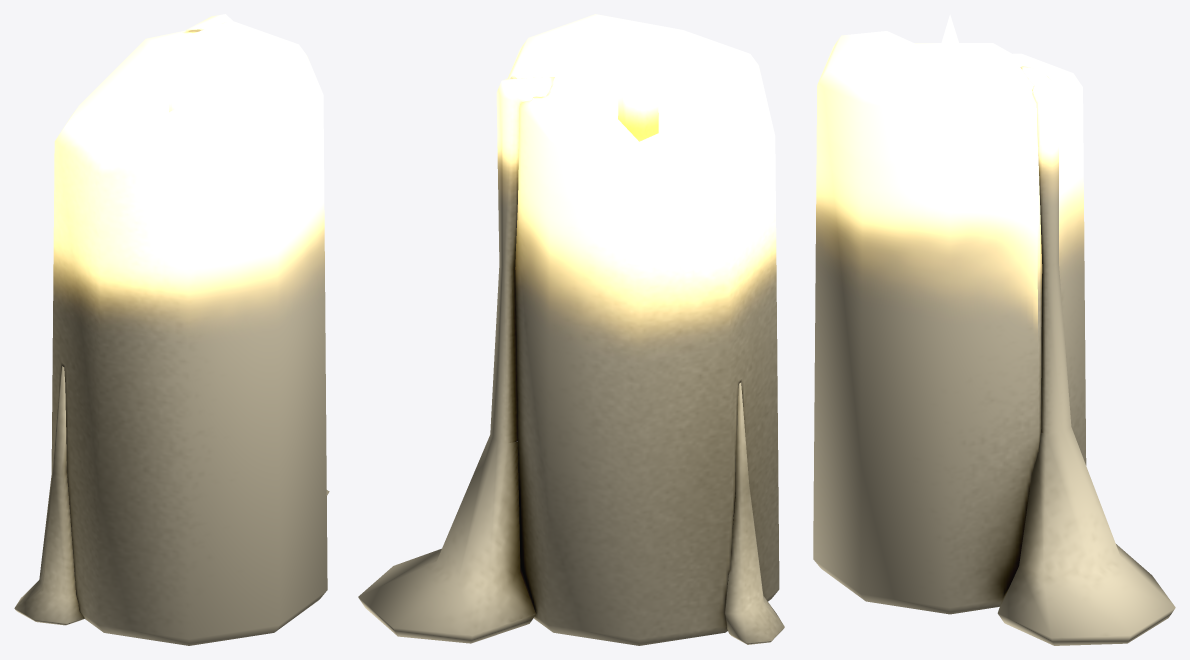
File: medium pillar candle.FBX
The picture shows the model from 3 angles, left to right: view 1: azimuth 30°, elevation 25°; view 2: azimuth 150°, elevation 25°; view 3: azimuth 270°, elevation 25°; orthographic projection. The views are drawn at different scales.
Parts seen in each view (by area): view 1: med thick candle; view 2: med thick candle; view 3: med thick candle.
Boxes of the visible parts, x1,y1,x2,y2 form: med thick candle: (14,14,329,645); med thick candle: (358,14,784,645); med thick candle: (813,14,1175,645).
Bounding box in the file's own units: 0.0956 × 0.1462 × 0.0881.
Materials: 1 (1 with a texture image).
